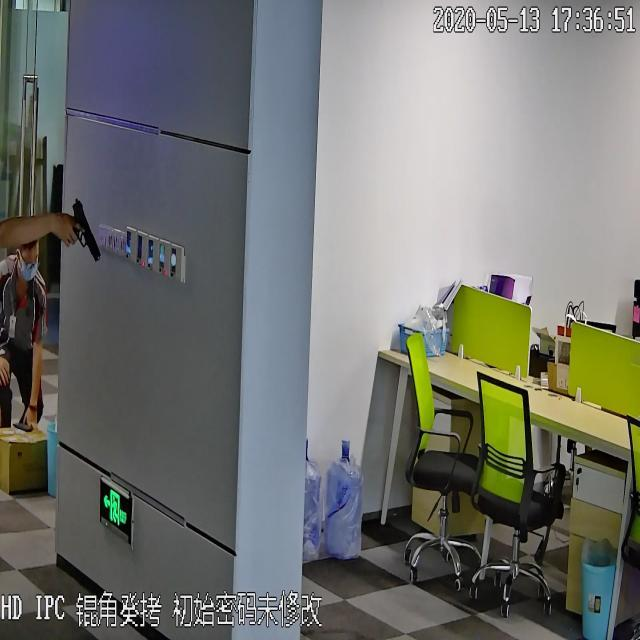gun-knife-thesis - v11 Yolov5 augmented: (57, 196, 102, 264)
